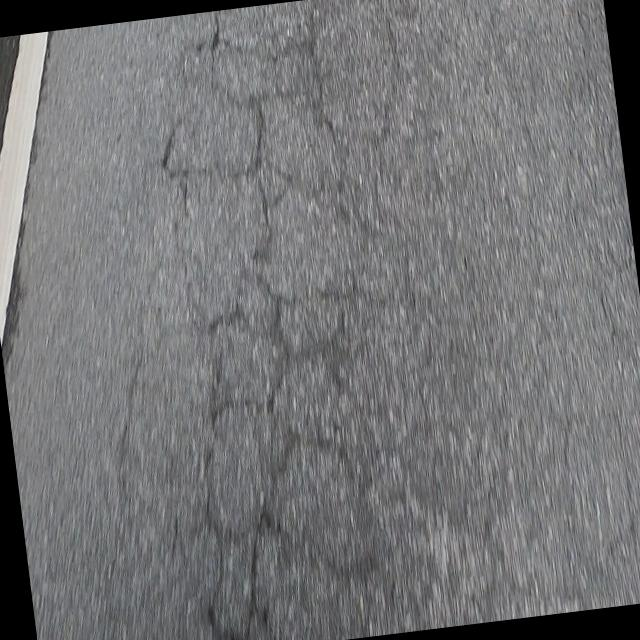Retak-Buaya: (156, 0, 465, 640)
